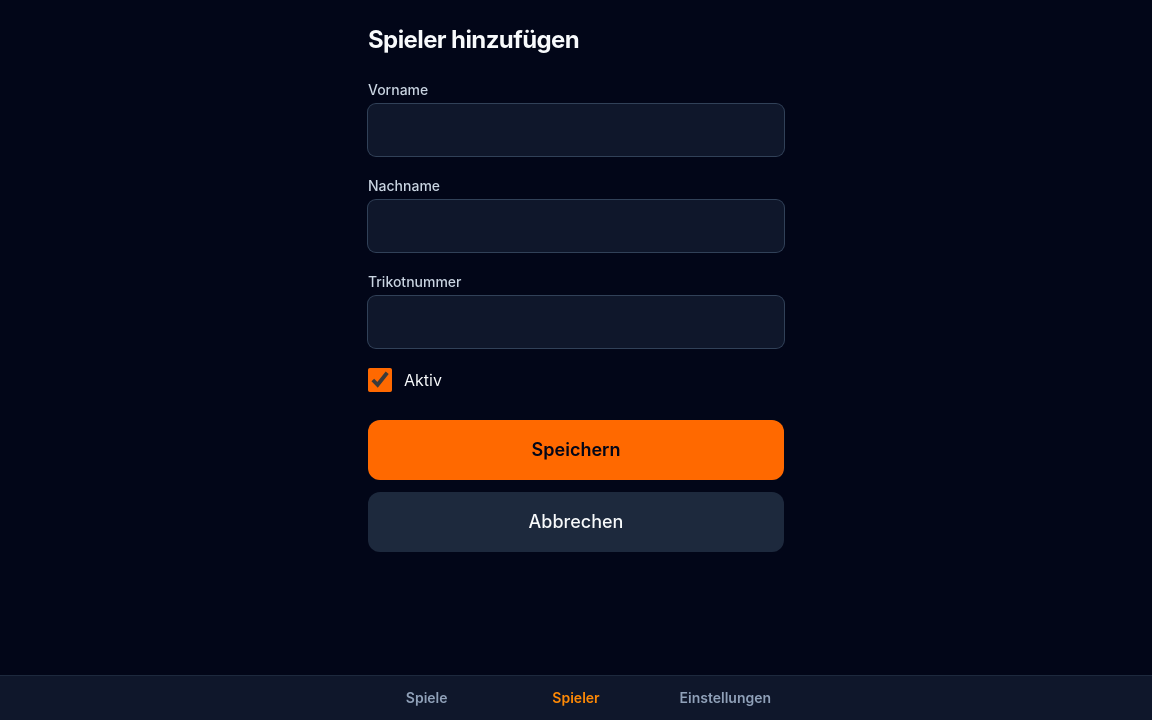
Test: PlayerFormPage – Spieler hinzufügen › zeigt eine Fehlermeldung bei einer bereits vergebenen Trikotnummer
Type "Peter" into the field labelled "Vorname" at (576, 130), box [368, 104, 784, 156]
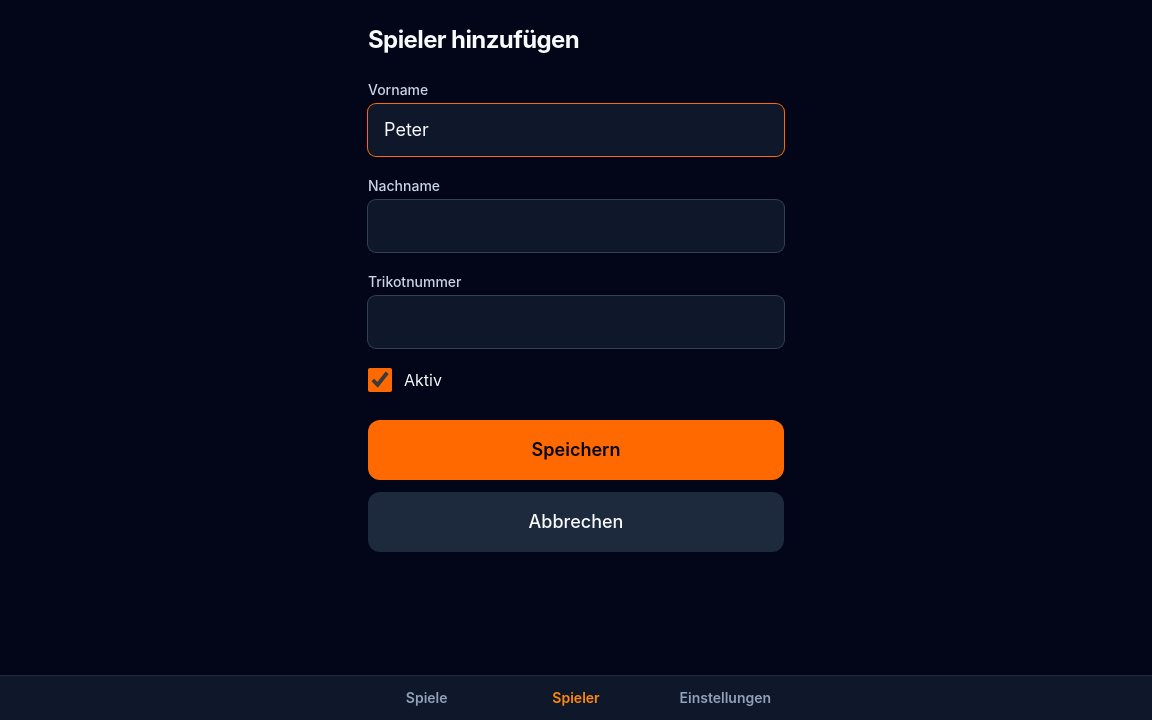
Type "Beispiel" into the field labelled "Nachname" at (576, 226), box [368, 200, 784, 252]
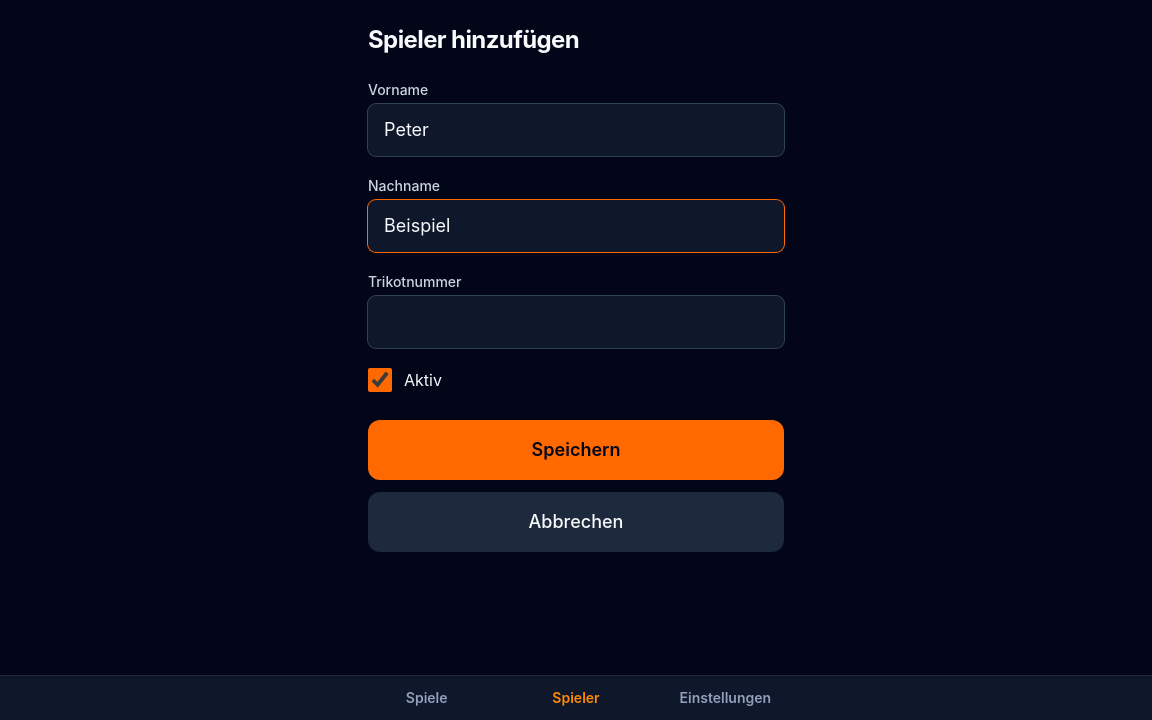
Type "12" into the number field labelled "Trikotnummer" at (576, 322), box [368, 296, 784, 348]
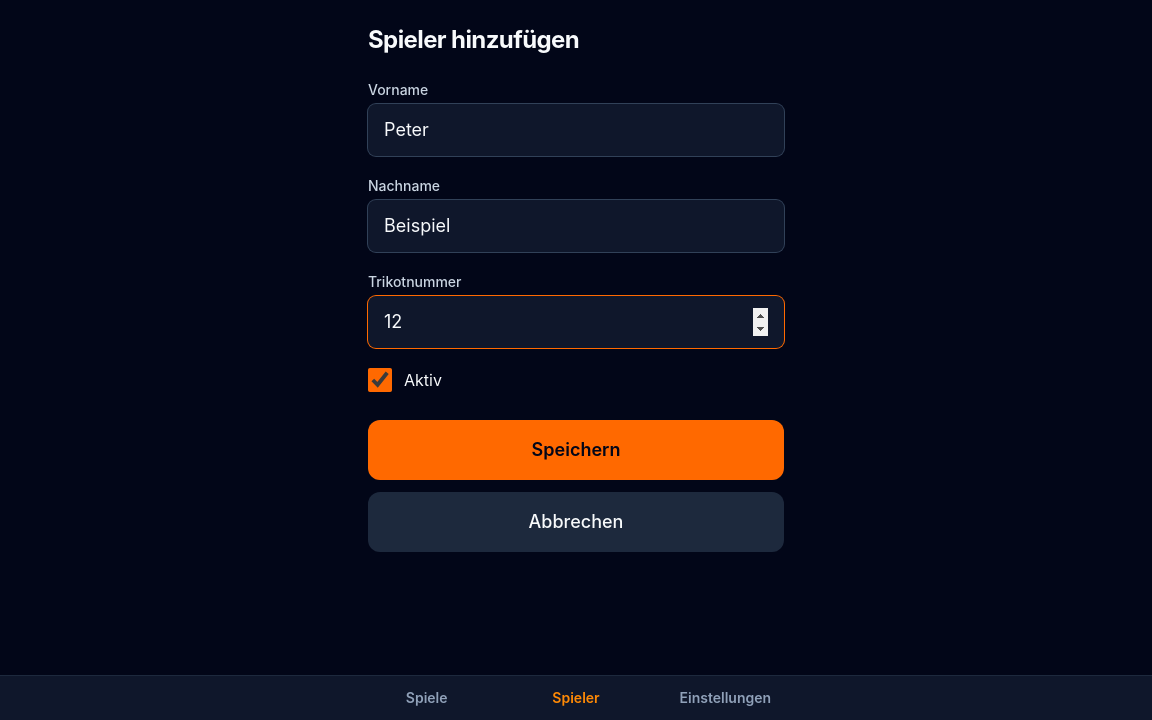
Click the button "Speichern" at (576, 450), box [368, 420, 784, 480]
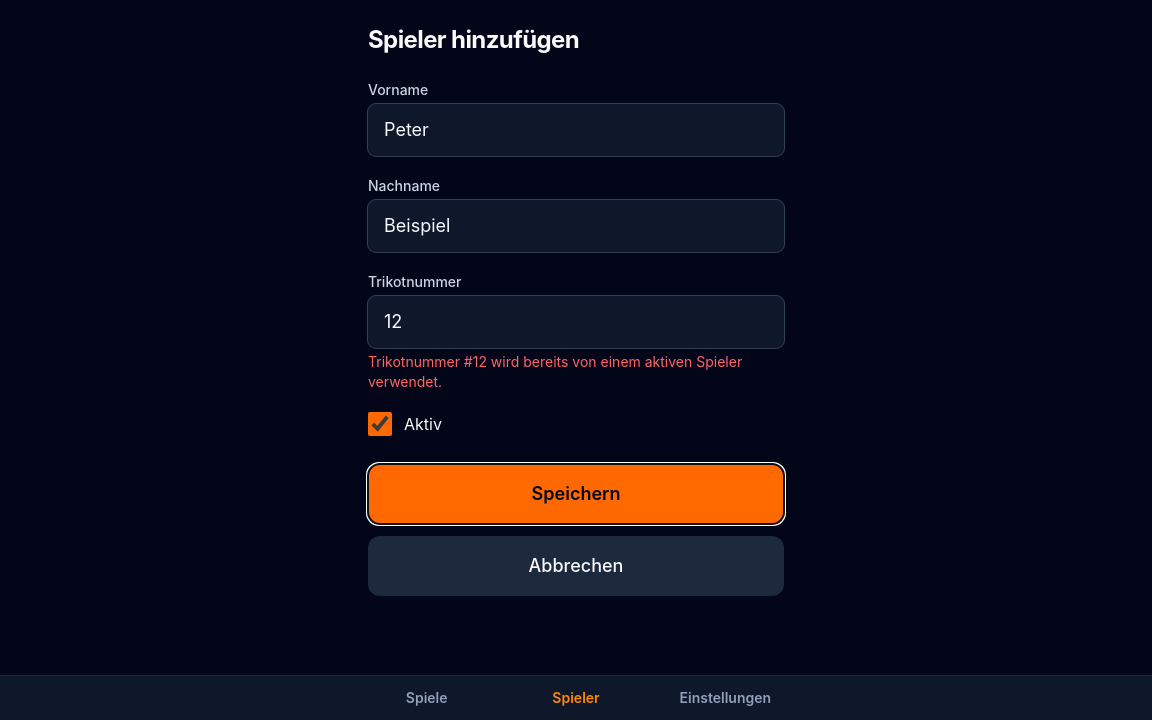
Expected: the text "bereits von einem aktiven Spieler verwendet" is shown, [368, 353, 742, 390]
